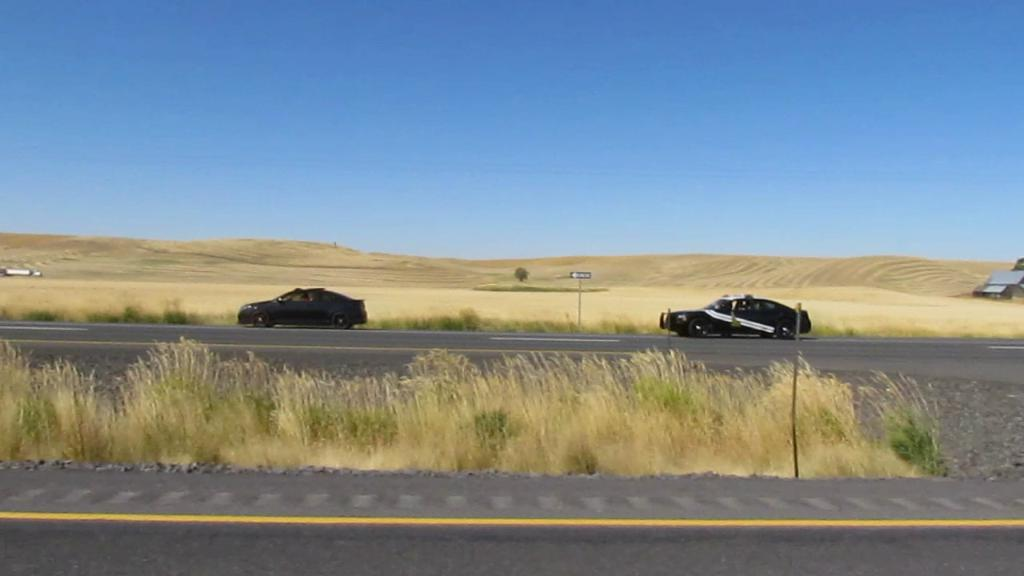cars: (660, 290, 812, 341), (235, 284, 367, 329)
